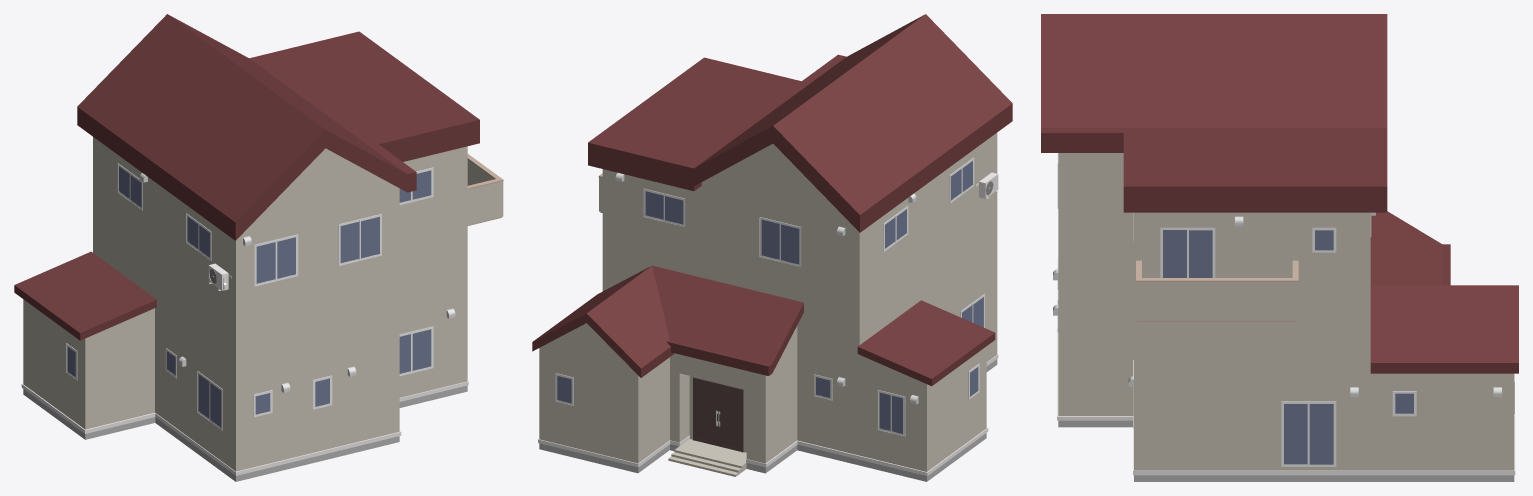
Rendered from MobHouse64.fbx.
3 views of the same model, side by side, from view 1: azimuth 30°, elevation 25°; view 2: azimuth 150°, elevation 25°; view 3: azimuth 270°, elevation 25° (orthographic). The views are drawn at different scales.
Parts seen in each view (by area): view 1: Flat_half_house02.023; view 2: Flat_half_house02.023; view 3: Flat_half_house02.023.
Part boxes in pixels (x1,y1,x2,y2): Flat_half_house02.023: [14, 14, 503, 481]; Flat_half_house02.023: [532, 14, 1012, 481]; Flat_half_house02.023: [1041, 14, 1518, 481].
Size of the model in its own units: 11.37 by 9.65 by 11.32.
